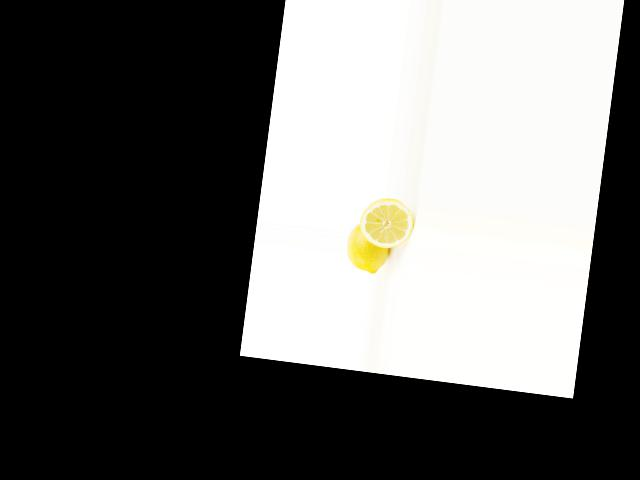lemon: (343, 220, 397, 277)
